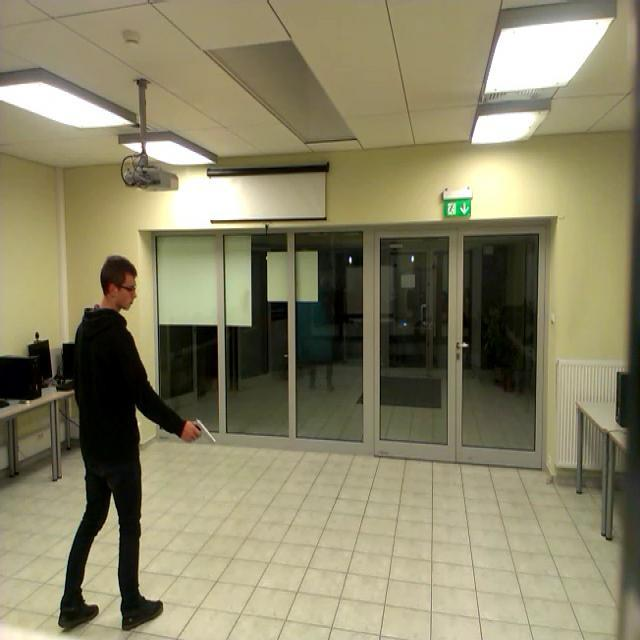Gun: (187, 418, 216, 443)
